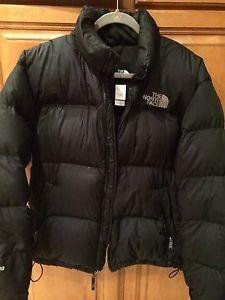C_jacket: (1, 3, 221, 295)
